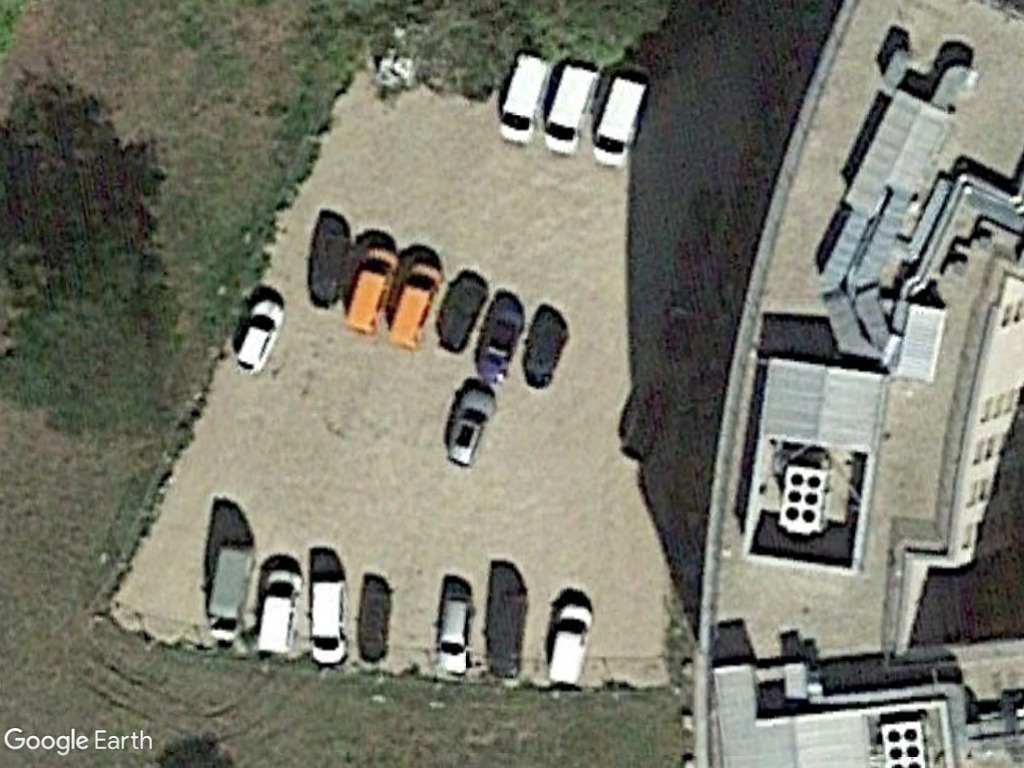car: (233, 290, 288, 379), (430, 587, 477, 685)
van: (200, 536, 263, 643), (494, 46, 554, 153), (341, 240, 403, 340), (591, 70, 650, 174), (542, 56, 601, 155), (441, 379, 503, 470), (386, 258, 444, 355), (252, 559, 302, 666), (542, 594, 596, 691), (303, 574, 341, 668)
